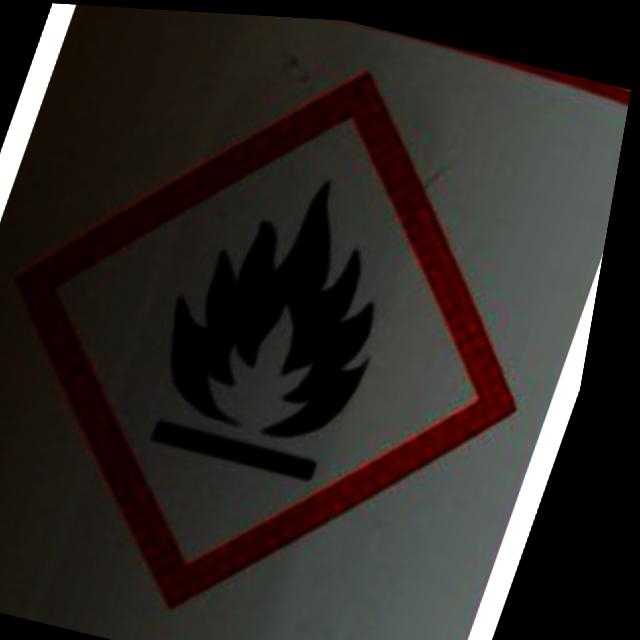flammable: (0, 0, 629, 640)
